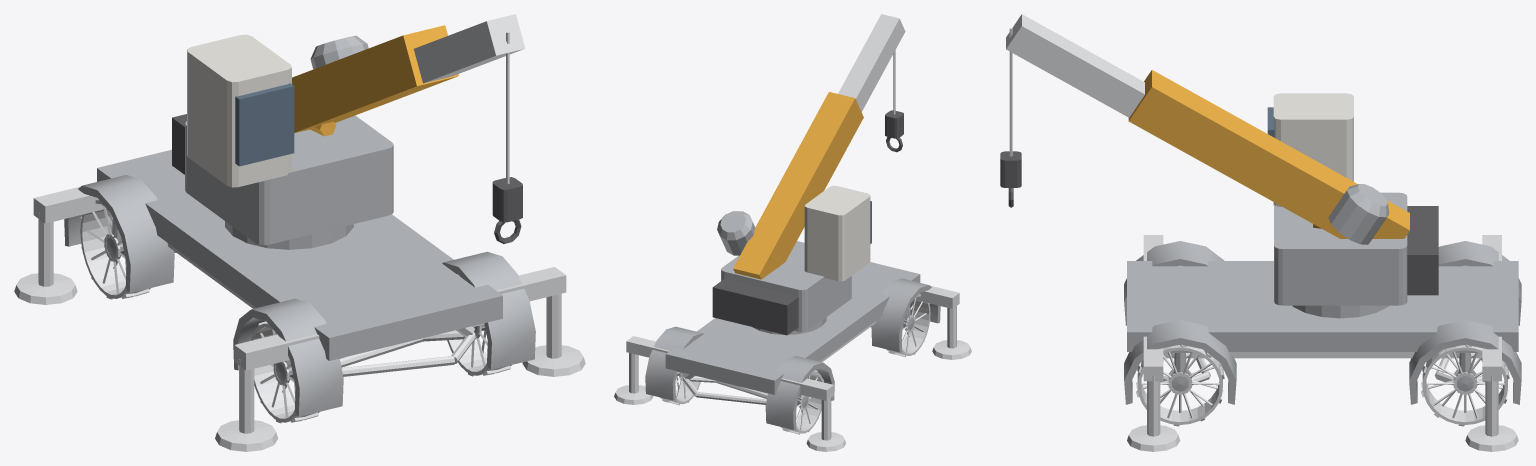
File: crane-rover-d5a76830.glb
The picture shows the model from 3 angles, left to right: view 1: azimuth 30°, elevation 25°; view 2: azimuth 150°, elevation 25°; view 3: azimuth 270°, elevation 25°; orthographic projection. The views are drawn at different scales.
Visible parts, largest first — view 1: crane-rover, turret, boom, boom-extension, outrigger-rear-left, outrigger-front-left, outrigger-front-right, wheel-rear-left, wheel-front-left, hook, wheel-front-right; view 2: crane-rover, boom, turret, boom-extension, outrigger-rear-left, outrigger-front-left, outrigger-rear-right, wheel-front-left, wheel-rear-left, hook, wheel-rear-right; view 3: crane-rover, boom, turret, boom-extension, wheel-rear-right, wheel-front-right, outrigger-front-right, outrigger-rear-right, hook.
Part boxes in pixels (x1,y1,x2,y2): crane-rover: (64, 31, 535, 416); turret: (185, 115, 393, 245); boom: (292, 25, 458, 136); boom-extension: (413, 14, 525, 83); outrigger-rear-left: (14, 186, 106, 304); outrigger-front-left: (215, 334, 319, 451); outrigger-front-right: (496, 267, 585, 376); wheel-rear-left: (80, 199, 150, 299); wheel-front-left: (250, 321, 319, 423); hook: (492, 177, 522, 243); wheel-front-right: (447, 325, 511, 376); crane-rover: (645, 50, 940, 429); boom: (733, 92, 863, 279); turret: (721, 241, 851, 332); boom-extension: (838, 14, 905, 111); outrigger-rear-left: (781, 378, 845, 451); outrigger-front-left: (916, 286, 971, 359); outrigger-rear-right: (614, 336, 669, 404); wheel-front-left: (886, 294, 930, 357); wheel-rear-left: (781, 370, 823, 434); hook: (885, 110, 903, 152); wheel-rear-right: (660, 372, 700, 405); crane-rover: (1009, 28, 1521, 404); boom: (1128, 70, 1409, 238); turret: (1274, 192, 1407, 305); boom-extension: (1006, 14, 1144, 117); wheel-rear-right: (1421, 344, 1509, 426); wheel-front-right: (1136, 344, 1224, 426); outrigger-front-right: (1127, 336, 1180, 451); outrigger-rear-right: (1465, 336, 1518, 451); hook: (1000, 151, 1021, 207).
Bounding box in the file's own units: 3.96 × 4.59 × 5.85.
